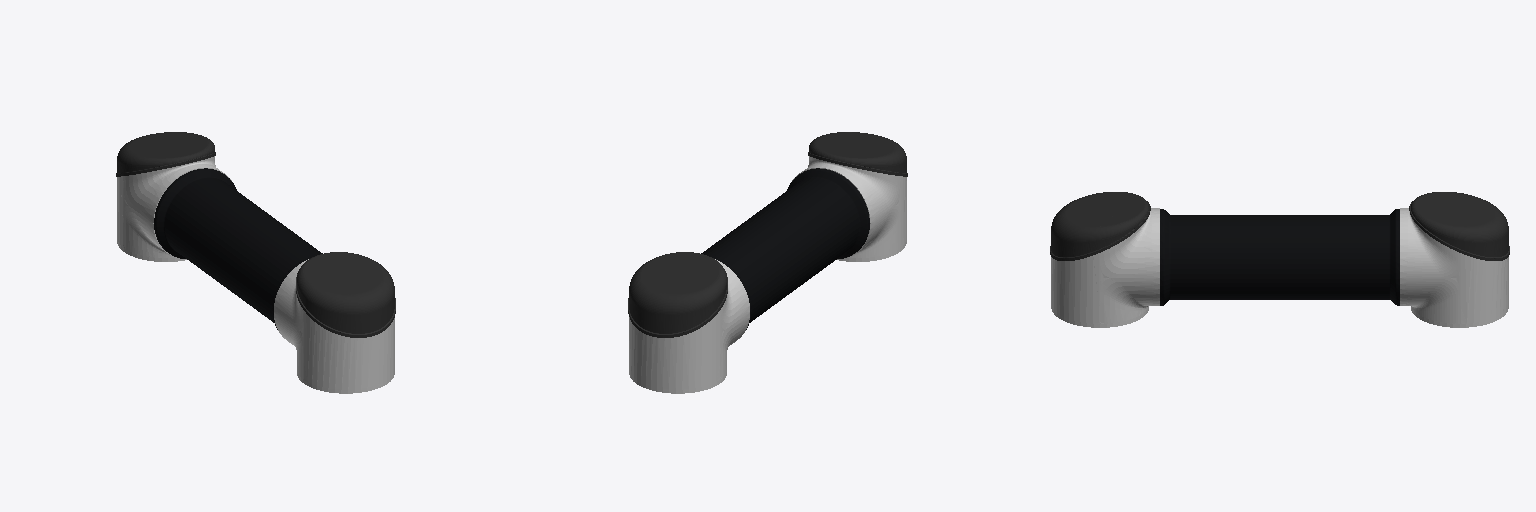
Rendered from upperarm.obj.
The picture shows the model from 3 angles: view 1: azimuth 30°, elevation 25°; view 2: azimuth 150°, elevation 25°; view 3: azimuth 270°, elevation 25°; orthographic projection.
Parts seen in each view (by area): view 1: Rohr.001, verbindung.003, blau.003, Scheibe.003; view 2: Rohr.001, verbindung.003, blau.003, Scheibe.003; view 3: Rohr.001, verbindung.003, blau.003, Scheibe.003.
Part boxes in pixels (bbox=[...]): Rohr.001: bbox=[154, 168, 322, 329]; verbindung.003: bbox=[117, 156, 394, 389]; blau.003: bbox=[116, 132, 395, 337]; Scheibe.003: bbox=[117, 240, 394, 393]; Rohr.001: bbox=[701, 168, 869, 329]; verbindung.003: bbox=[629, 156, 906, 389]; blau.003: bbox=[628, 132, 907, 337]; Scheibe.003: bbox=[629, 240, 906, 393]; Rohr.001: bbox=[1160, 209, 1399, 305]; verbindung.003: bbox=[1051, 208, 1508, 323]; blau.003: bbox=[1050, 192, 1509, 260]; Scheibe.003: bbox=[1051, 305, 1508, 327].
Bounding box in the file's own units: 0.119 × 0.1337 × 0.544.